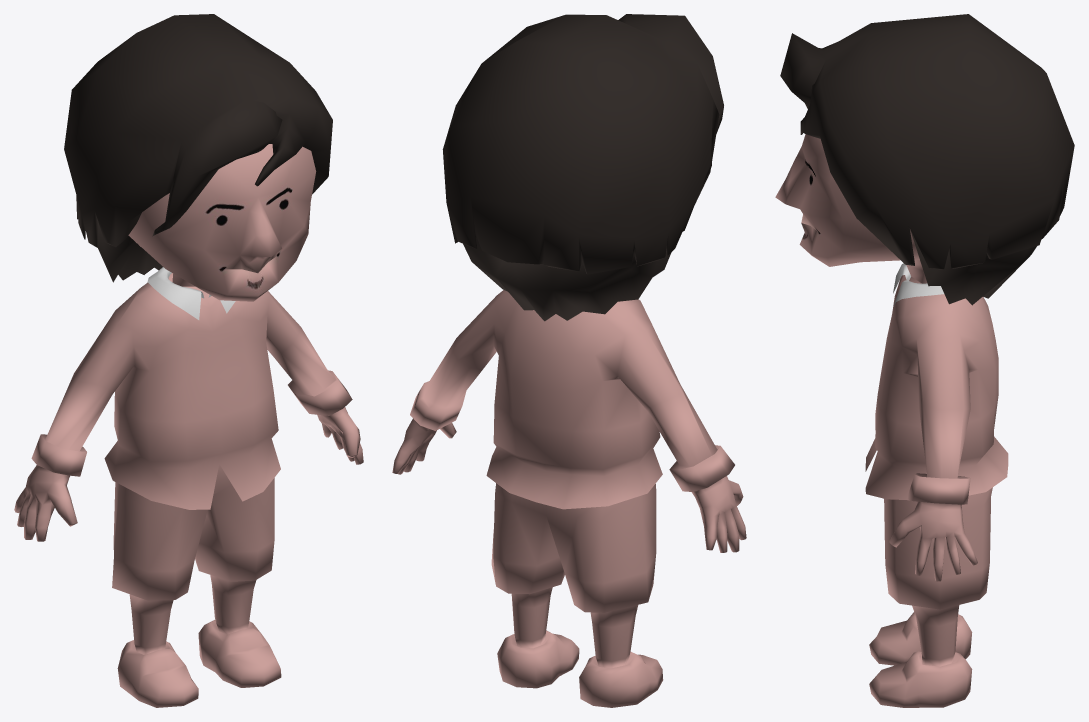
File: patrick_face_keys.fbx
The picture shows the model from 3 angles, left to right: view 1: azimuth 30°, elevation 25°; view 2: azimuth 150°, elevation 25°; view 3: azimuth 270°, elevation 25°; orthographic projection.
Visible parts, largest first — view 1: Body, Mesh_002, Head, Mesh; view 2: Body, Mesh_002; view 3: Mesh_002, Body, Head, Mesh.
Part boxes in pixels (x1,y1,x2,y2): Body: (14,273,363,707); Mesh_002: (64,14,332,282); Head: (128,144,316,301); Mesh: (147,267,235,319); Body: (392,290,746,707); Mesh_002: (442,14,723,321); Mesh_002: (780,14,1074,305); Body: (865,275,1008,707); Head: (775,134,927,283); Mesh: (893,263,944,306).
Size of the model in its own units: 490 by 913 by 382.
